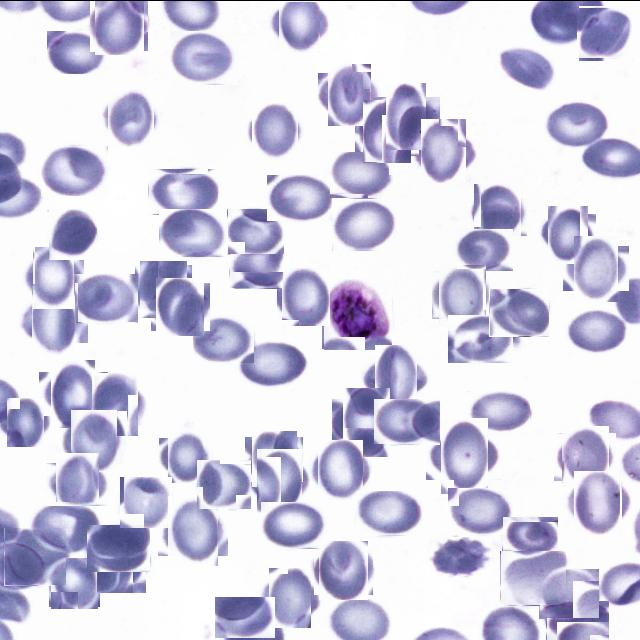red blood cell: (433, 424, 495, 486), (169, 30, 238, 85), (163, 499, 223, 560), (29, 501, 100, 552), (4, 527, 66, 585), (501, 550, 566, 605), (40, 145, 108, 196), (338, 392, 396, 450), (332, 198, 396, 250), (237, 340, 309, 386), (159, 208, 228, 256), (25, 291, 82, 348), (148, 168, 218, 214), (260, 501, 327, 549), (46, 364, 101, 422), (447, 487, 513, 535), (74, 273, 138, 322), (360, 103, 416, 159), (568, 240, 624, 296), (570, 474, 626, 530), (94, 532, 150, 588), (448, 314, 513, 362), (267, 174, 334, 220), (373, 398, 440, 444), (416, 123, 471, 178), (87, 376, 142, 431), (558, 428, 612, 484), (252, 452, 306, 508), (329, 151, 393, 198), (539, 568, 599, 618), (544, 101, 610, 146), (435, 267, 490, 321), (369, 350, 424, 404), (66, 412, 120, 467), (316, 542, 371, 596), (356, 490, 422, 535), (87, 524, 150, 571), (279, 268, 333, 322), (154, 279, 208, 333), (379, 89, 433, 143), (489, 288, 549, 336), (578, 6, 631, 59), (322, 68, 376, 120), (314, 442, 366, 496), (193, 316, 254, 362), (92, 0, 145, 52), (472, 185, 524, 238), (52, 457, 104, 510), (196, 459, 251, 509), (47, 28, 109, 72), (27, 251, 79, 303), (105, 90, 157, 142), (138, 262, 190, 314), (249, 105, 301, 157), (120, 476, 172, 528), (248, 432, 300, 484), (264, 570, 316, 622), (229, 238, 283, 288), (498, 45, 556, 91), (564, 309, 626, 352), (467, 390, 530, 432), (227, 208, 284, 254), (214, 596, 275, 638), (546, 600, 609, 640), (48, 208, 98, 258), (542, 208, 592, 258), (50, 557, 100, 607), (454, 228, 513, 270), (429, 536, 492, 575), (273, 0, 325, 47), (502, 516, 558, 556), (163, 432, 208, 478), (3, 400, 48, 442)
schizont: (322, 278, 392, 348)
